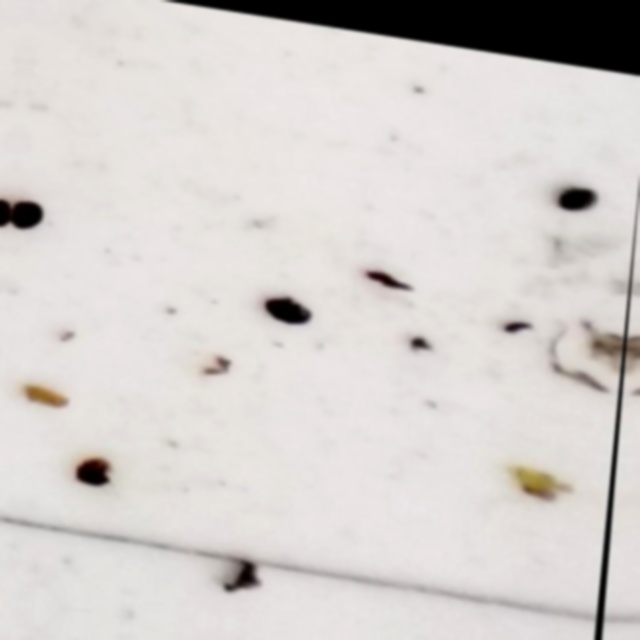varroa: (260, 288, 316, 325), (556, 174, 598, 209), (10, 194, 46, 233)
